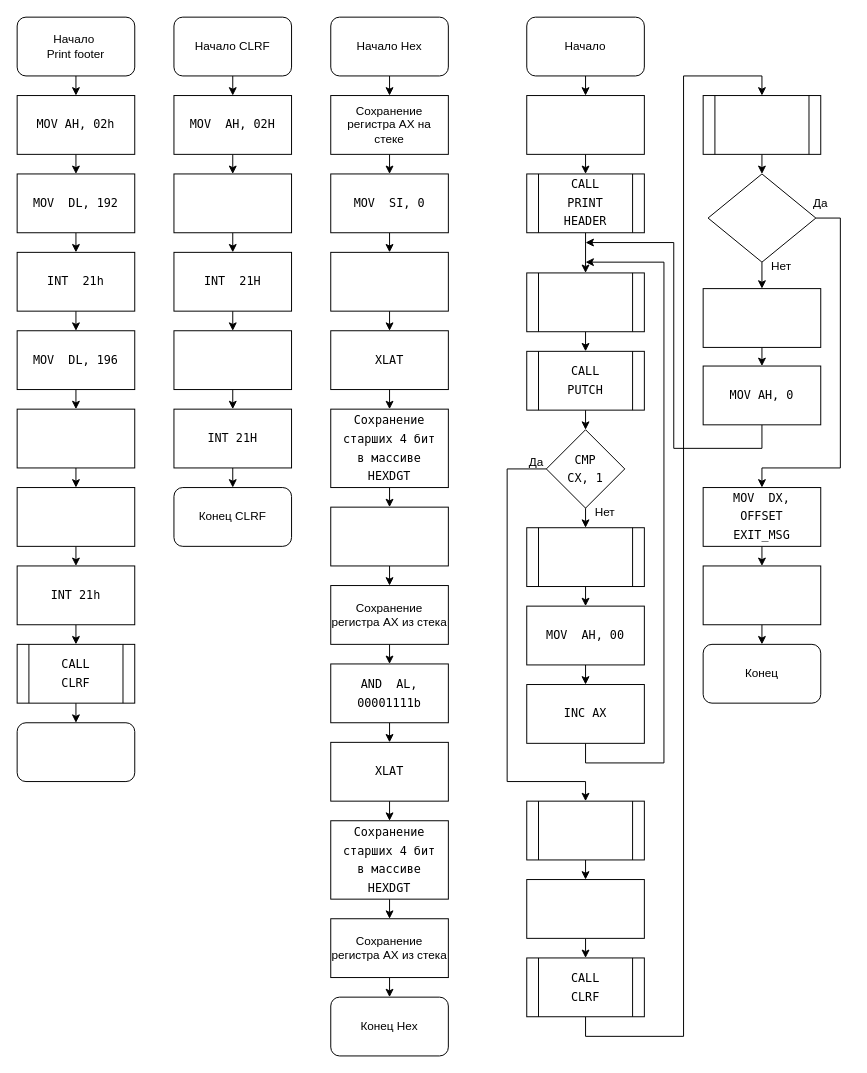
Some shapes in this 867 by 1073 pixel diagram are drawn without their labels. The shapes that lost their labels are listed below. From the top down, each one's centre as x and y in pixels, then its label:
(585,124): Загрузка регистров CS, DS
(761,124): CALL GETCH
(232,203): MOV DL , 10
(761,217): CMP AL , '*'
(389,281): Сдвиг SHR AL на 4
(585,302): CALL HEX
(761,317): MOV CX , 20
(232,360): MOV DL , 13
(75,438): Выполнение INT 21h 6 раз
(75,516): MOV DL , 217
(389,536): INC SI
(585,557): CALL PRINT LINE
(761,595): Выход из программы с кодом 0
(75,752): Конец Print footer
(585,830): CALL PRINT FOOTER
(585,908): MOV DX , OFFSET MSG
